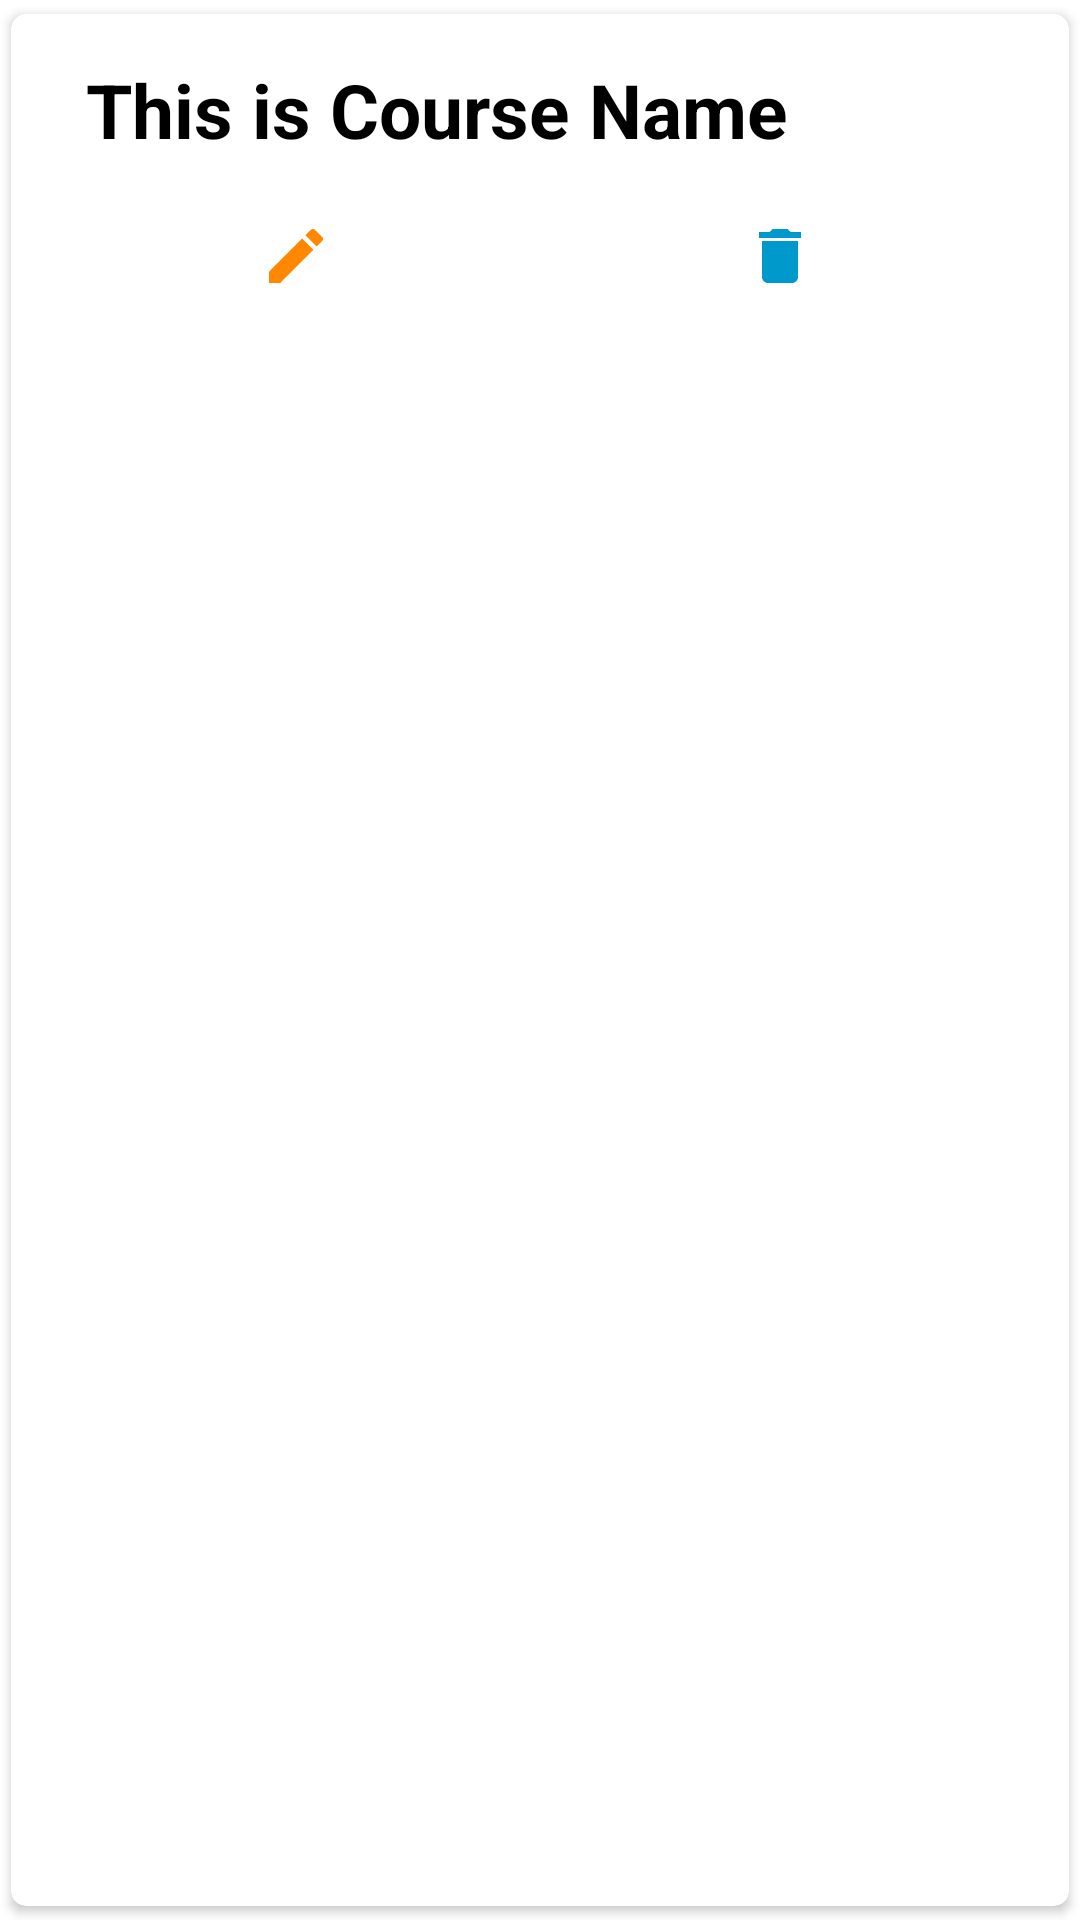

Icon click points for this 1080px×1920px phone screenshot, format (x,y):
delete: (780,256)
edit: (296,256)
